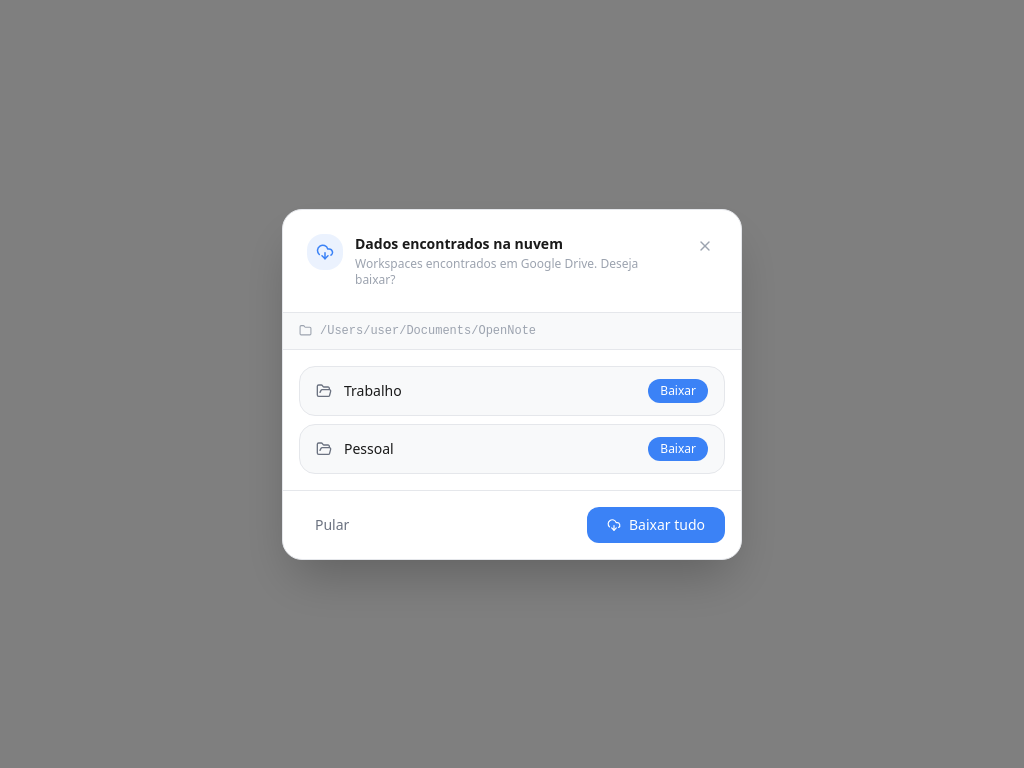
Test: CloudImportModal › shows done state and Open button after download completes
The width and height of the screenshot is (1024, 768).
Click the button "Baixar" in the row of "Trabalho". click: (678, 390)
box: [648,378,708,402]
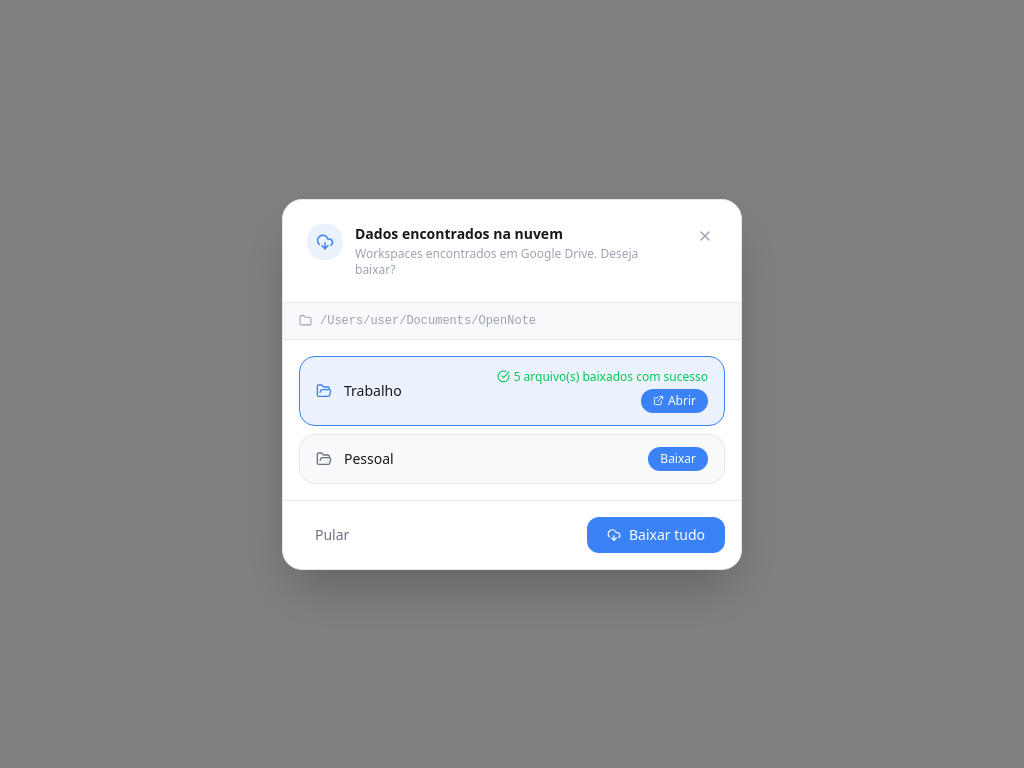
Check: the text "5 arquivo(s) baixados com sucesso" is shown, box [497,368,708,384]
Check: the button "Abrir" is shown, box [641,388,708,412]
